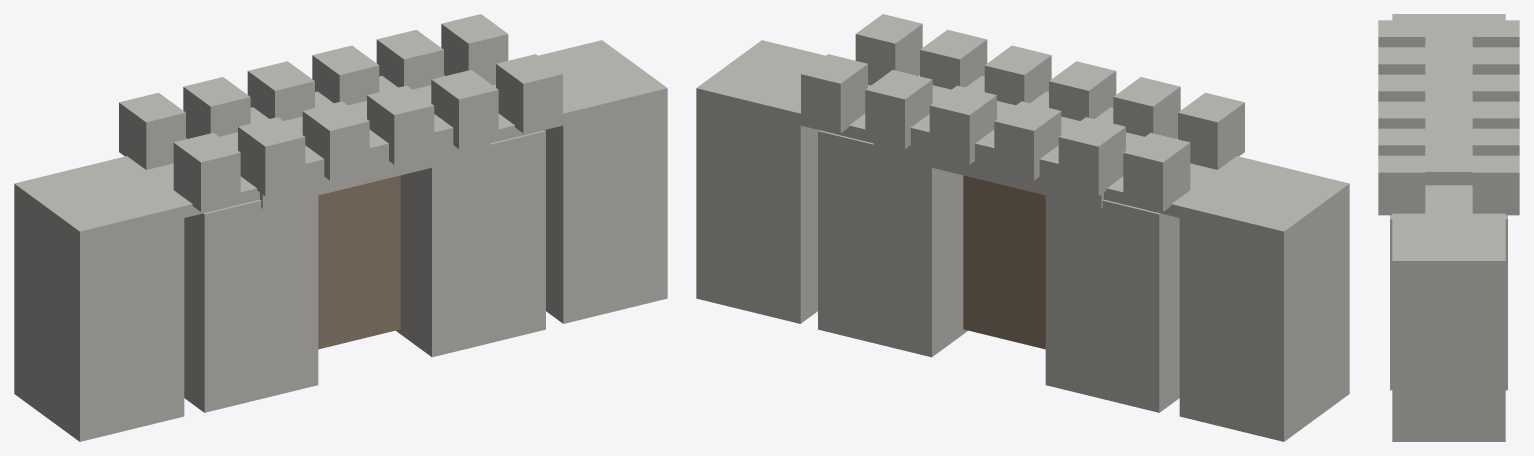
The model's file is SM_Building_Wall.fbx.
3 views of the same model, side by side, from view 1: azimuth 30°, elevation 25°; view 2: azimuth 150°, elevation 25°; view 3: azimuth 270°, elevation 25° (orthographic). The views are drawn at different scales.
Parts seen in each view (by area): view 1: Wall; view 2: Wall; view 3: Wall.
Part boxes in pixels (x1,y1,x2,y2): Wall: [14, 14, 667, 441]; Wall: [696, 14, 1349, 441]; Wall: [1378, 14, 1519, 441].
Bounding box in the file's own units: 6.2 × 2.6 × 1.5.
